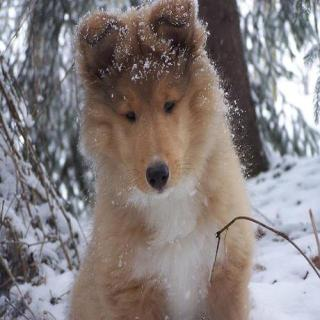dog: (74, 6, 227, 216)
nose: (141, 156, 173, 192)
